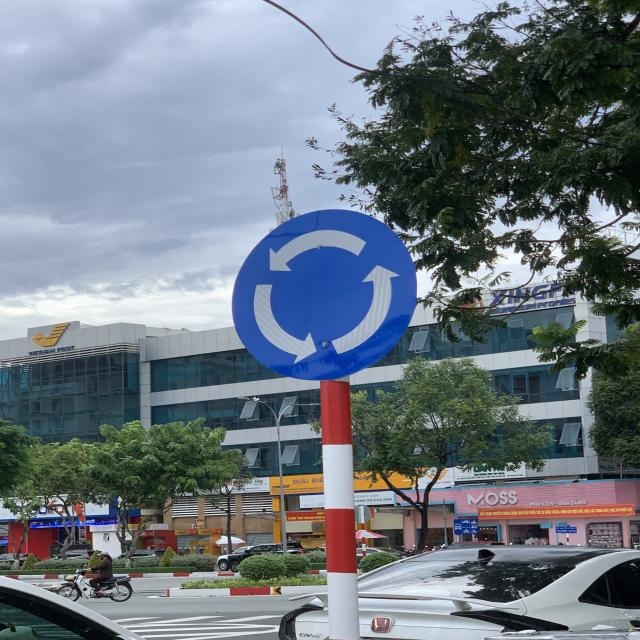Xe_Bus: (227, 210, 423, 377)
